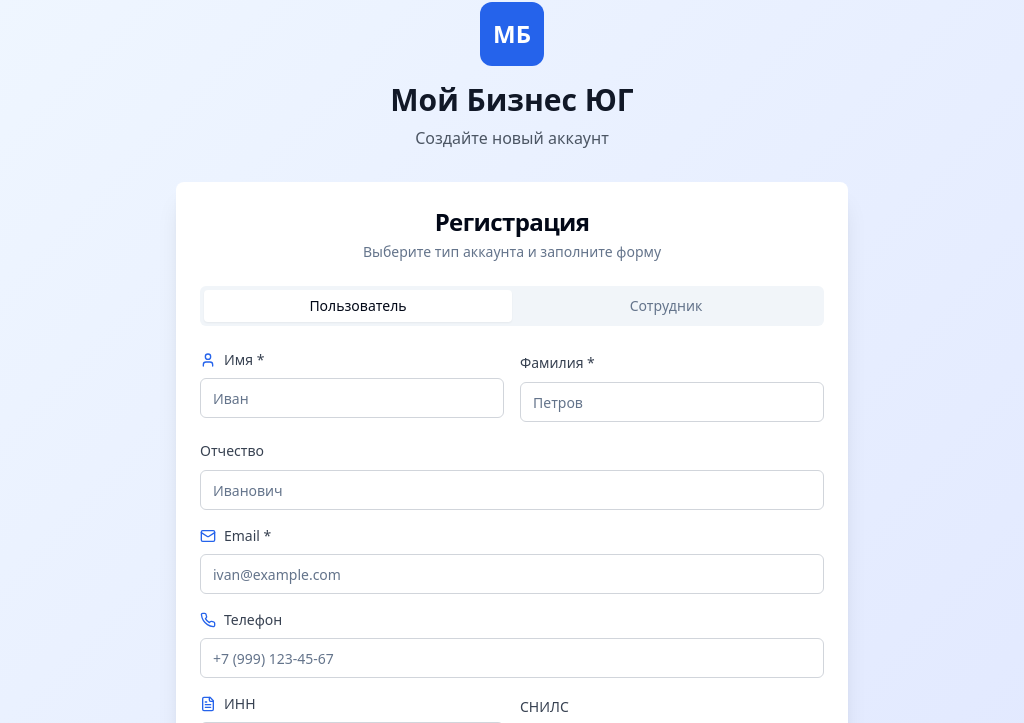
Test: SignupPage › should switch to employee registration form
Click the tab "Сотрудник".
click(666, 306)  # box [512,290,820,322]
(page scrolled)
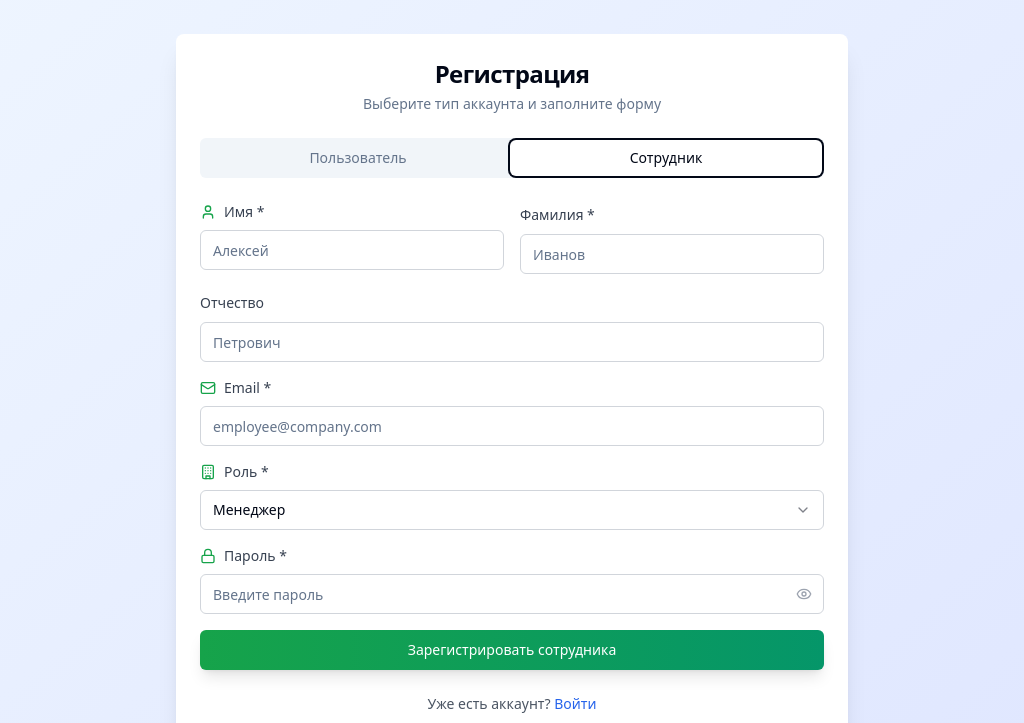
Check: the field labelled "Имя *" is shown, box [200,230,504,270]
Check: the field labelled "Фамилия *" is shown, box [520,234,824,274]
Check: the field labelled "Email *" is shown, box [200,406,824,446]
